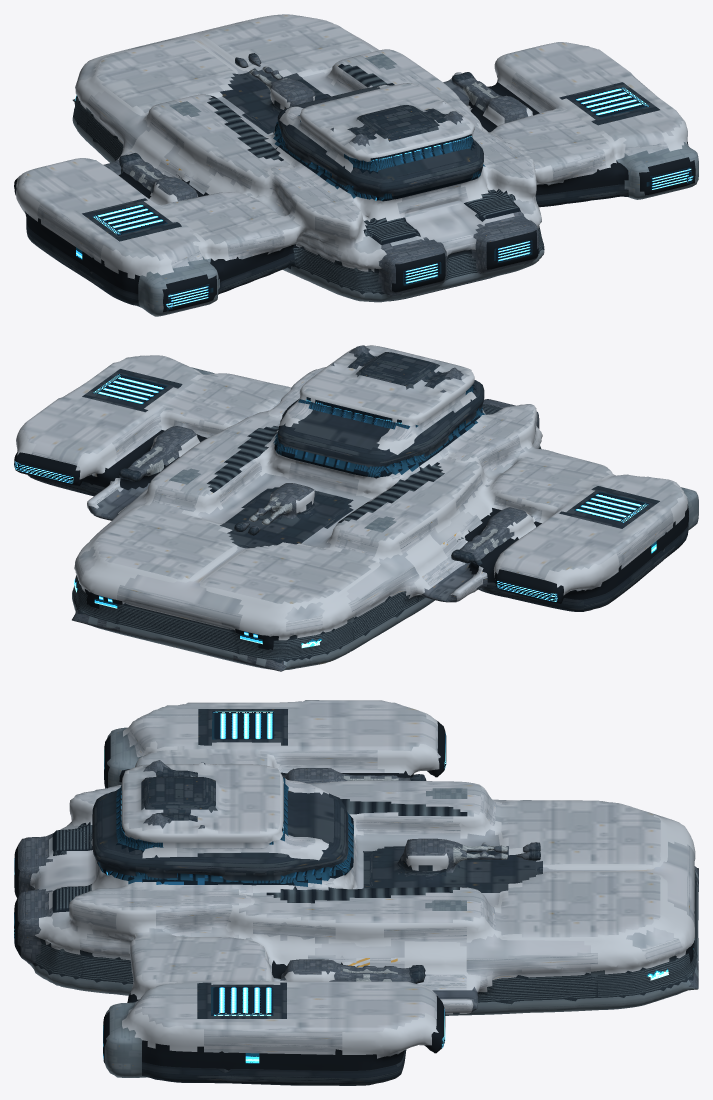
File: alliance_destroyer_recreated.remesh.glb
3 renders of one model, top to bottom at view 1: azimuth 30°, elevation 25°; view 2: azimuth 150°, elevation 25°; view 3: azimuth 270°, elevation 25°, orthographic. The views are drawn at different scales.
Parts seen in each view (by area): view 1: Alliance Destroyer | Horizon; view 2: Alliance Destroyer | Horizon; view 3: Alliance Destroyer | Horizon.
Boxes of the visible parts, <box> form: Alliance Destroyer | Horizon: <box>14,14,698,316</box>; Alliance Destroyer | Horizon: <box>14,345,698,671</box>; Alliance Destroyer | Horizon: <box>14,700,698,1085</box>.
Bounding box in the file's own units: 1.42 × 0.3238 × 1.23.
Materials: 1 (1 with a texture image).
